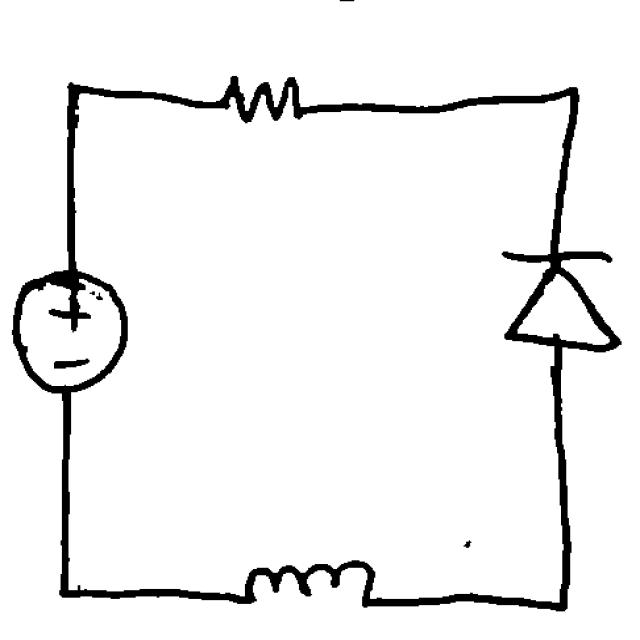dc: (7, 268, 143, 402)
diode: (476, 237, 632, 366)
inductor: (230, 547, 388, 620)
resistor: (204, 63, 322, 132)
